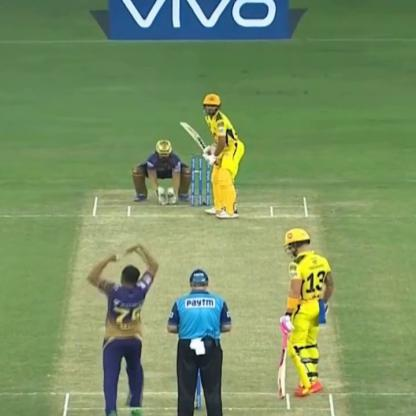bat: (177, 113, 213, 167)
pitch: (58, 185, 349, 416)
